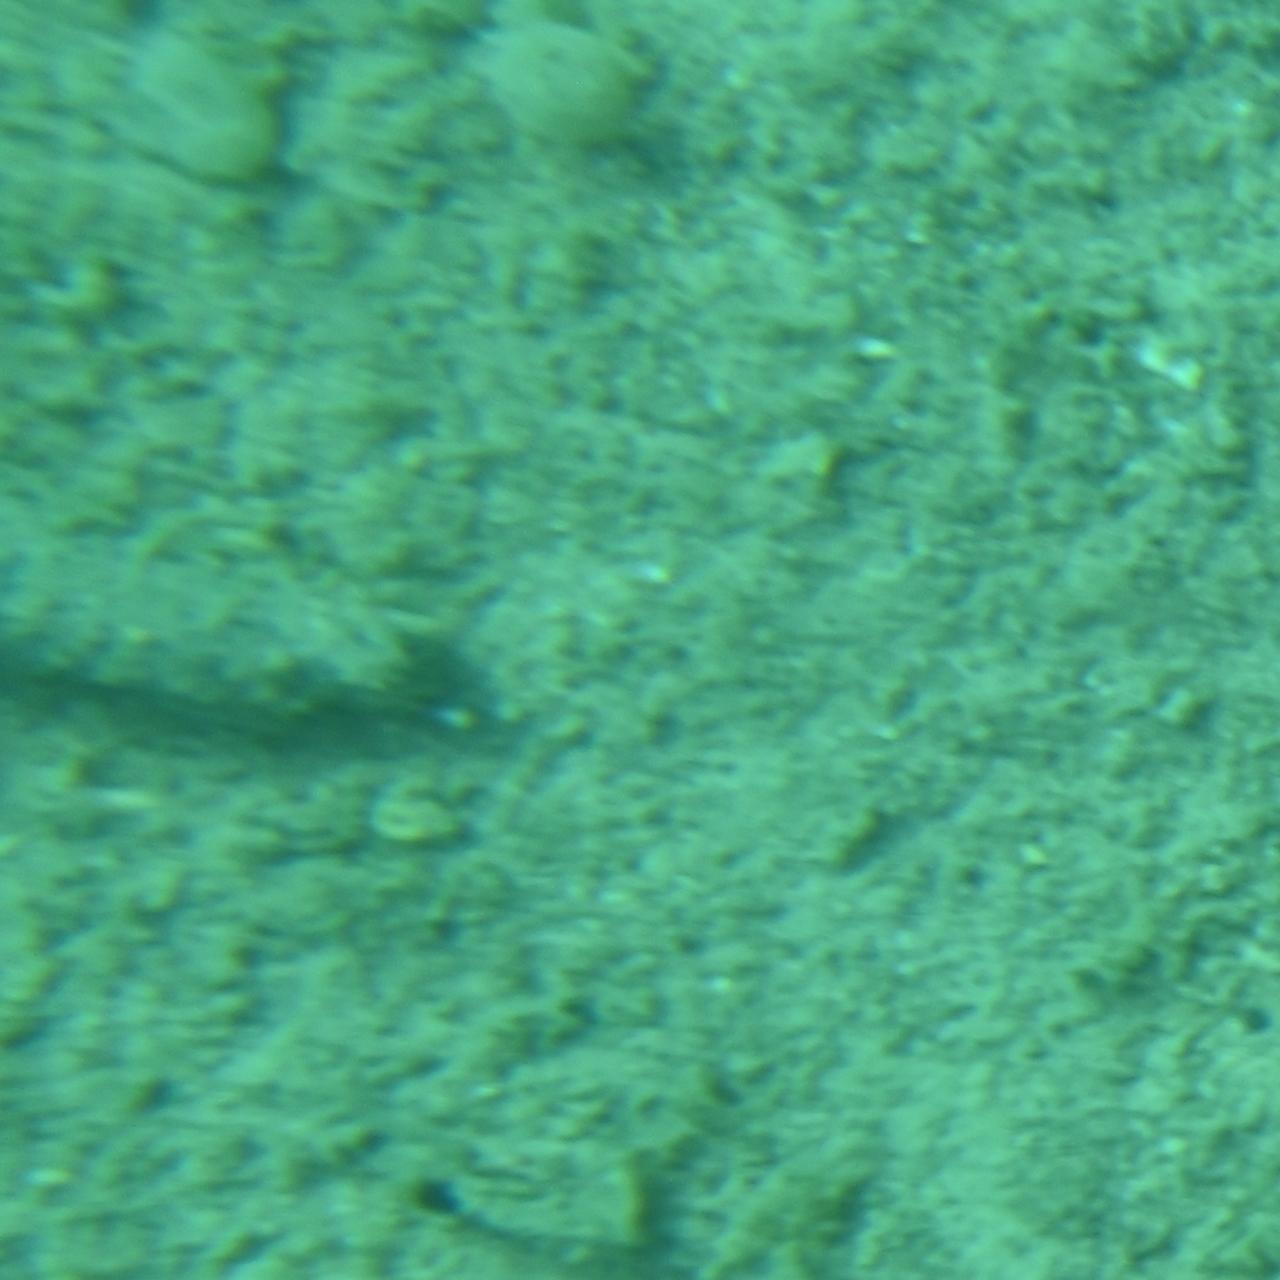Holothuria tubulosa: (0, 520, 472, 760)
